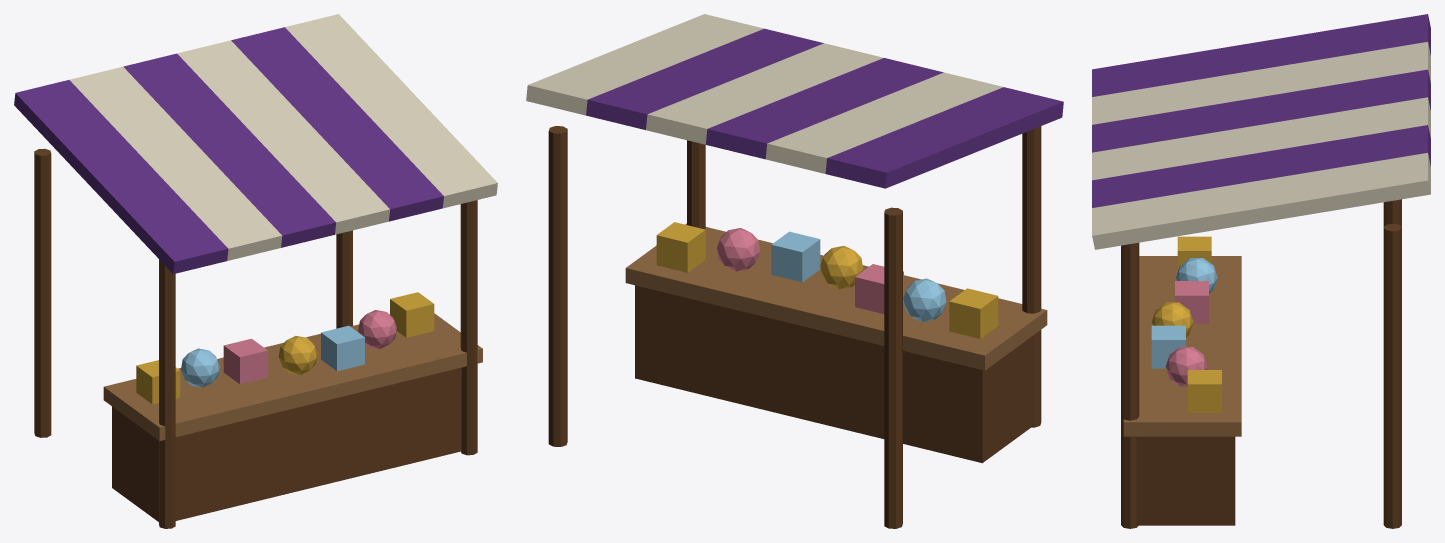
File: SM_GZ_stall_3.fbx
3 renders of one model, left to right at view 1: azimuth 30°, elevation 25°; view 2: azimuth 150°, elevation 25°; view 3: azimuth 270°, elevation 25°, orthographic. The views are drawn at different scales.
Visible parts, largest first — view 1: SM_GZ_stall_3; view 2: SM_GZ_stall_3; view 3: SM_GZ_stall_3.
Boxes of the visible parts, <box> form: SM_GZ_stall_3: <box>14,14,497,528</box>; SM_GZ_stall_3: <box>526,14,1063,528</box>; SM_GZ_stall_3: <box>1092,14,1430,528</box>.
Size of the model in its own units: 300 by 294 by 258.
